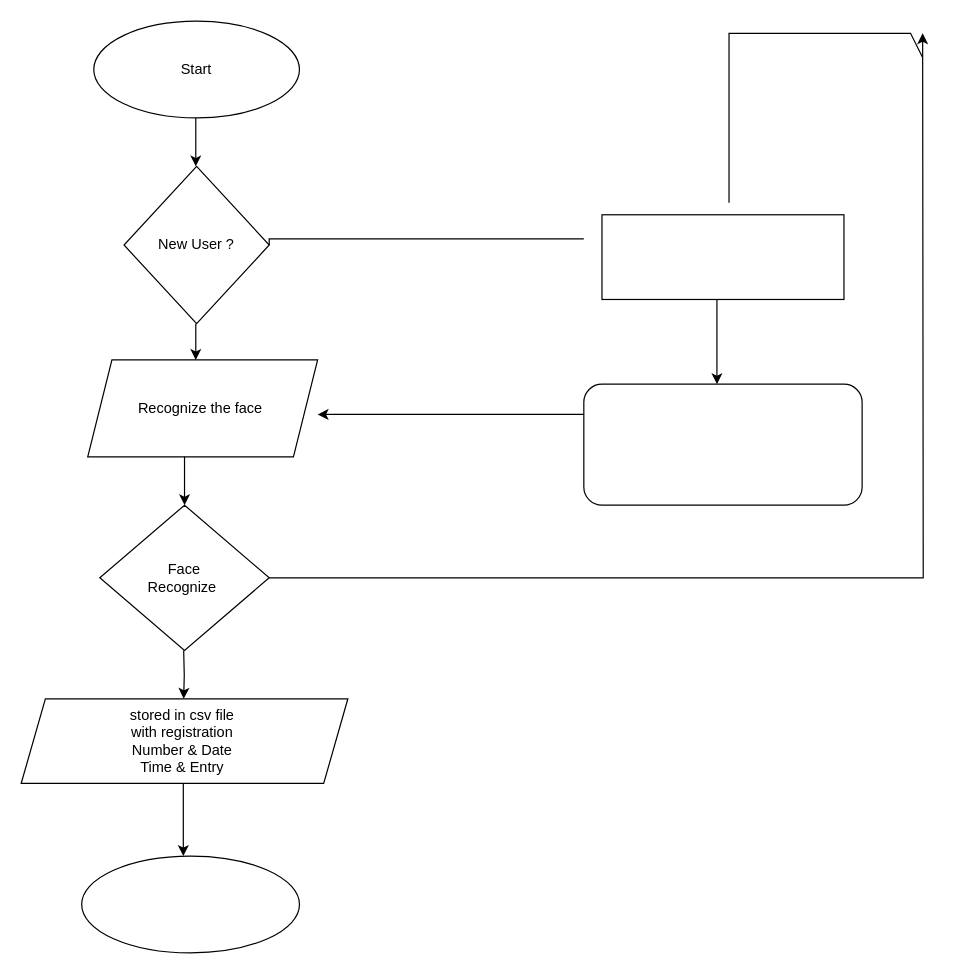
Image size: 955x974. Some labels were removed from this diagram. The shapes that lost their labels are listed below. From the top down, each one's centre as x and y in pixels, then its label:
the point at 722,256: Give Your photography
the point at 722,444: store the face data in the folder on your name
the point at 189,904: End
